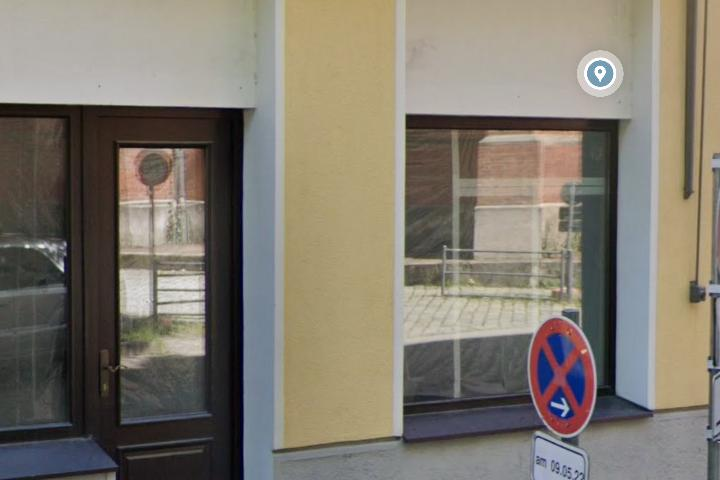google_maps: (586, 58, 616, 90)
traffic_sign: (527, 316, 598, 441), (137, 152, 170, 186)
